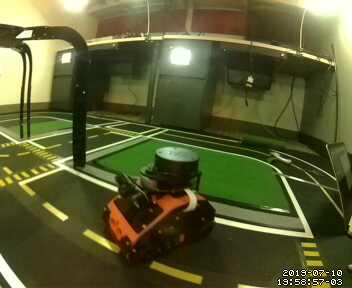pheeno: (100, 145, 220, 267)
